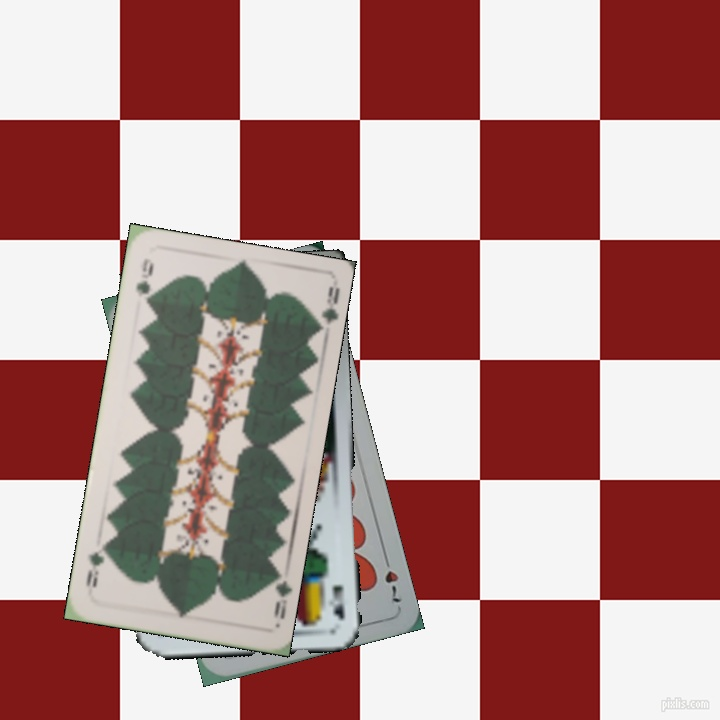EK: (328, 581, 348, 621)
G9: (265, 567, 292, 622), (132, 254, 156, 312)
H7: (379, 550, 404, 605)
